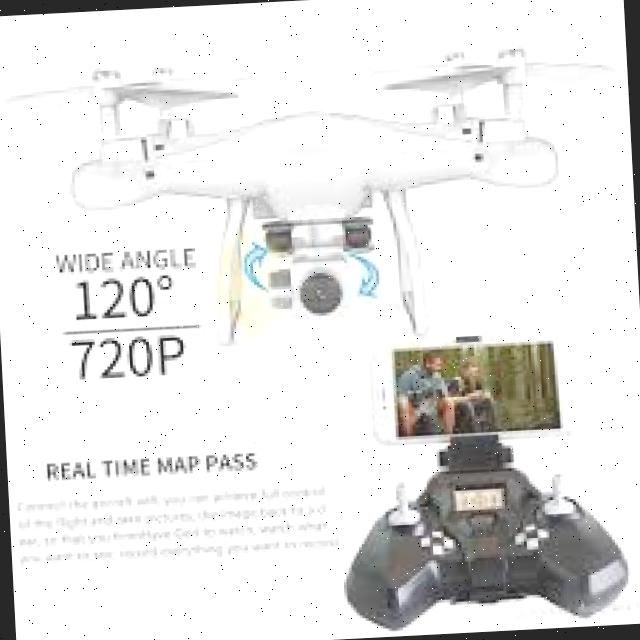drone: (0, 27, 606, 366)
